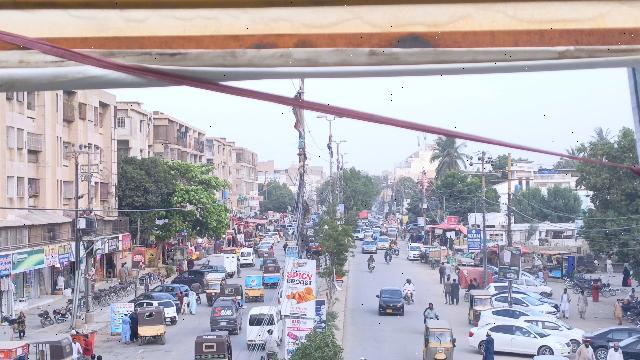Bike: (404, 287, 414, 308), (264, 351, 279, 360)
Car: (467, 320, 572, 355), (374, 285, 407, 317)
Person: (479, 329, 498, 360), (575, 288, 590, 320), (557, 287, 572, 319), (575, 338, 594, 360), (129, 307, 140, 344), (611, 294, 624, 325), (263, 327, 281, 349), (14, 310, 28, 338), (120, 311, 131, 346), (605, 340, 624, 360), (441, 276, 453, 304), (186, 288, 198, 315), (449, 277, 460, 305), (404, 278, 415, 292)
Rickshaw: (421, 320, 456, 360), (137, 305, 167, 345), (193, 331, 232, 360), (464, 289, 492, 325), (243, 272, 265, 305), (204, 271, 226, 304), (262, 263, 282, 288)
Truck: (208, 252, 237, 275)
Van: (246, 305, 285, 349), (209, 295, 243, 334)
